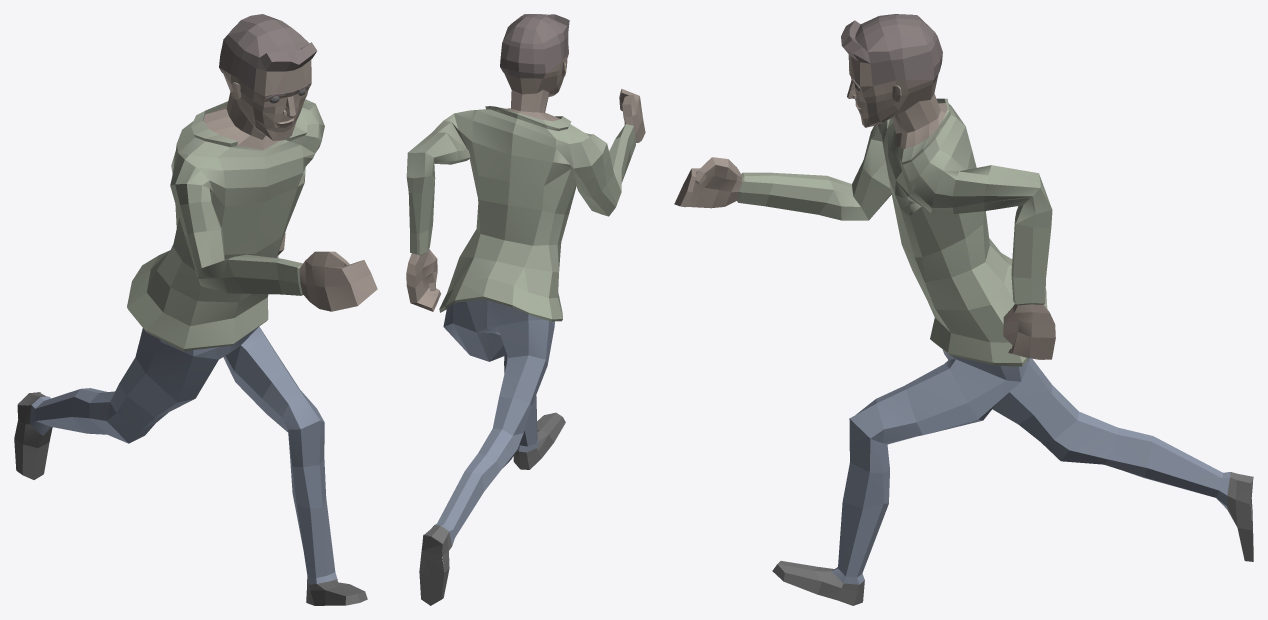
Rendered from run_5.glb.
3 renders of one model, left to right at view 1: azimuth 30°, elevation 25°; view 2: azimuth 150°, elevation 25°; view 3: azimuth 270°, elevation 25°, orthographic. The views are drawn at different scales.
Visible parts, largest first — view 1: BaseHuman_baked; view 2: BaseHuman_baked; view 3: BaseHuman_baked.
Boxes of the visible parts, <box> form: BaseHuman_baked: <box>14,14,377,605</box>; BaseHuman_baked: <box>406,14,645,605</box>; BaseHuman_baked: <box>674,14,1253,605</box>.
Bounding box in the file's own units: 1.3 × 4.18 × 3.86.
